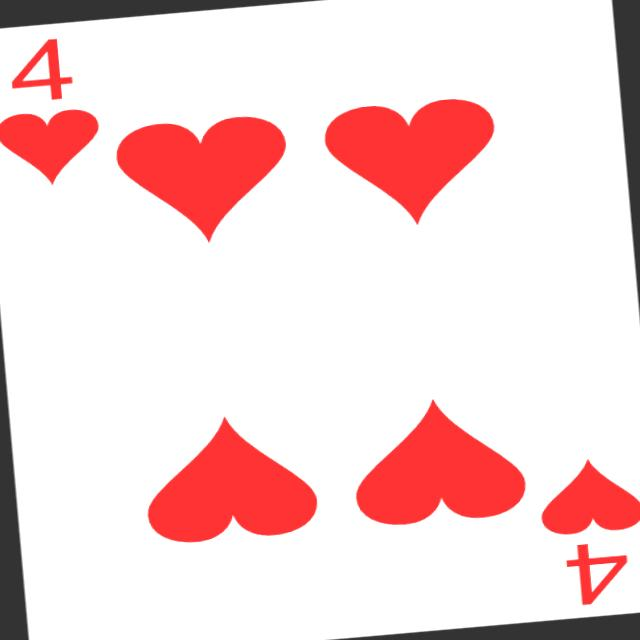Heart: (112, 112, 296, 250), (138, 407, 320, 546), (346, 391, 529, 529), (320, 95, 503, 232), (535, 453, 640, 537), (0, 107, 104, 190)
